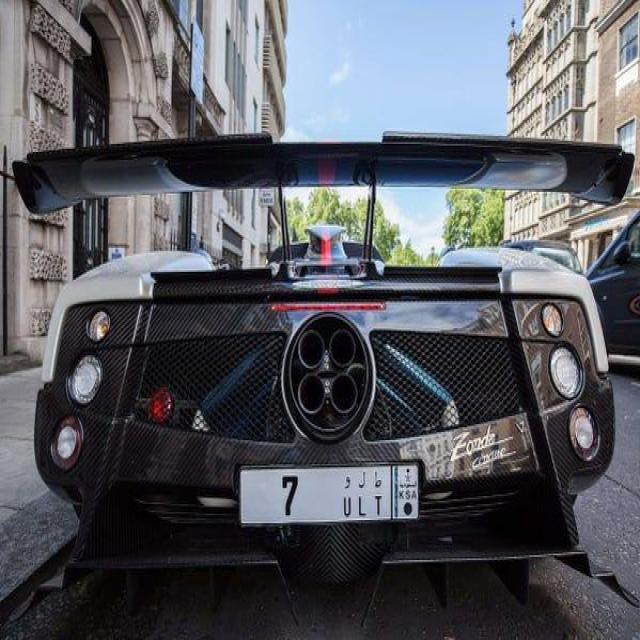license_plate: (232, 450, 409, 534)
